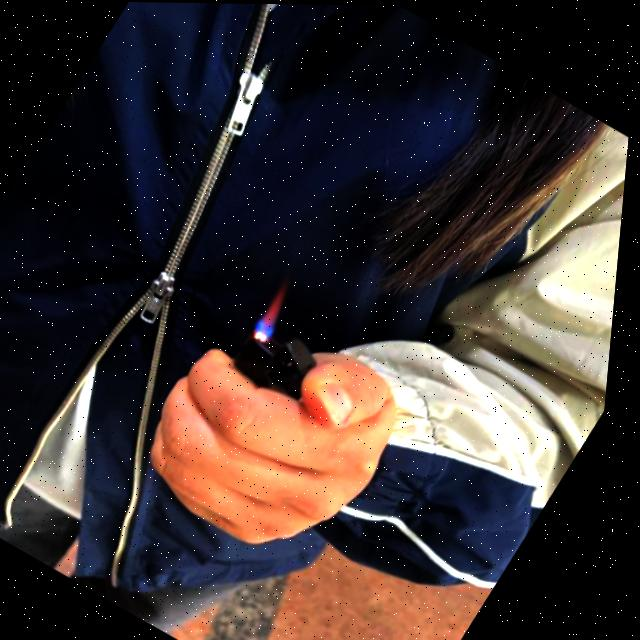Fire: (257, 281, 305, 337)
